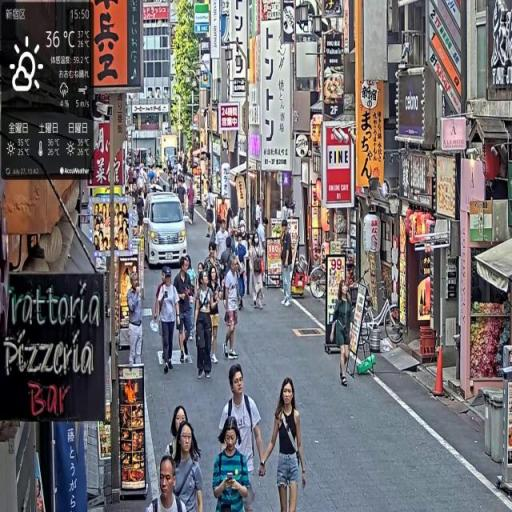person: (217, 364, 266, 509), (261, 375, 308, 512), (213, 418, 252, 512), (172, 422, 207, 512), (328, 278, 356, 390), (155, 264, 181, 375), (195, 272, 217, 383), (176, 255, 197, 365), (223, 255, 244, 361), (169, 404, 202, 470), (128, 273, 145, 372), (188, 180, 198, 225)
